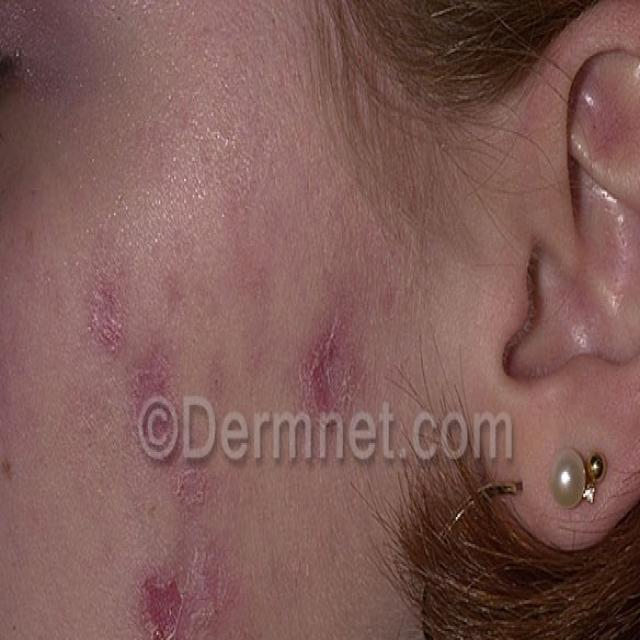Acne: (71, 258, 202, 481), (125, 481, 250, 640), (282, 265, 370, 448)
